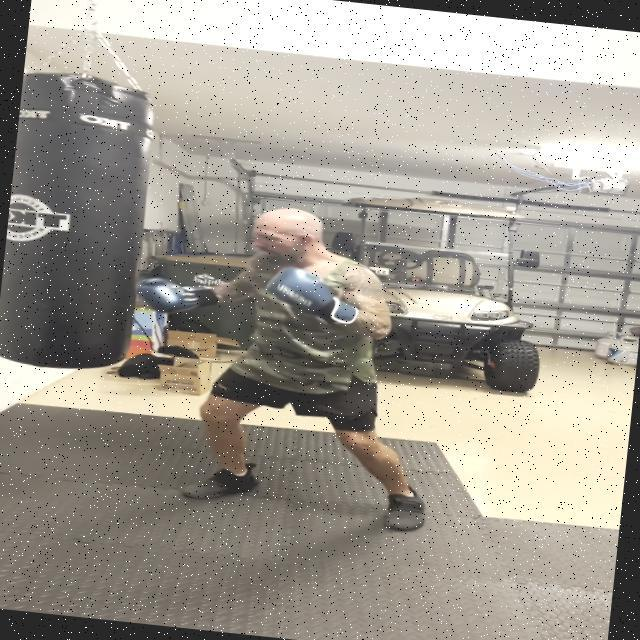bag: (0, 59, 168, 381)
hook: (95, 158, 417, 362)
